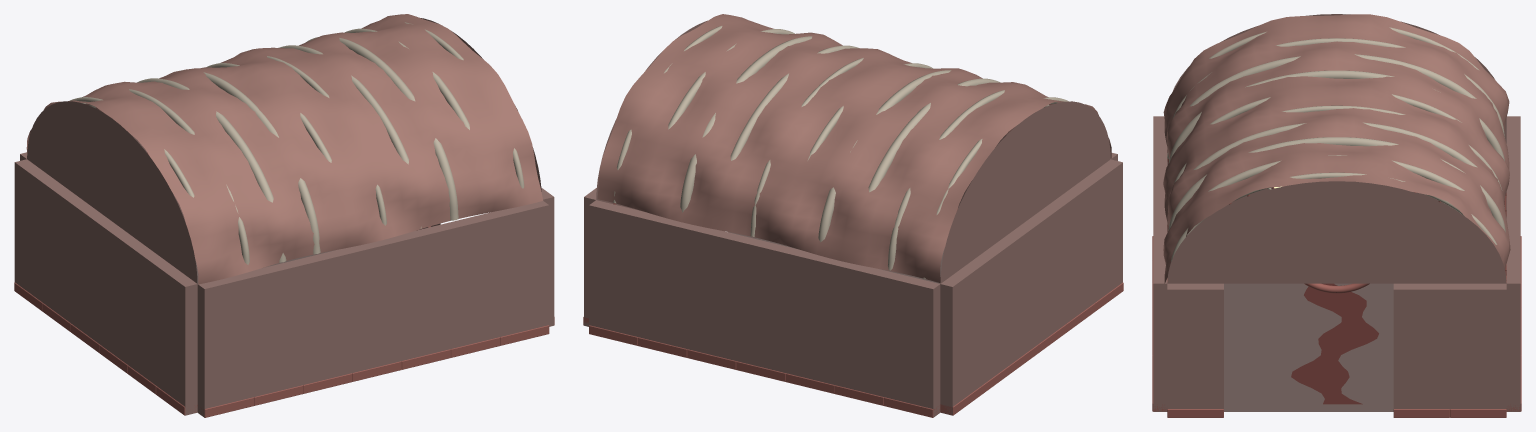
The model's file is environment.glb.
3 views of the same model, side by side, from view 1: azimuth 30°, elevation 25°; view 2: azimuth 150°, elevation 25°; view 3: azimuth 270°, elevation 25° (orthographic).
Visible parts, largest first — view 1: gullet-start authored environment; view 2: gullet-start authored environment; view 3: gullet-start authored environment.
Part boxes in pixels (<box>): gullet-start authored environment: <box>14,14,554,417</box>; gullet-start authored environment: <box>583,14,1123,417</box>; gullet-start authored environment: <box>1152,14,1521,417</box>.
Size of the model in its own units: 15.06 by 9.16 by 13.06.
